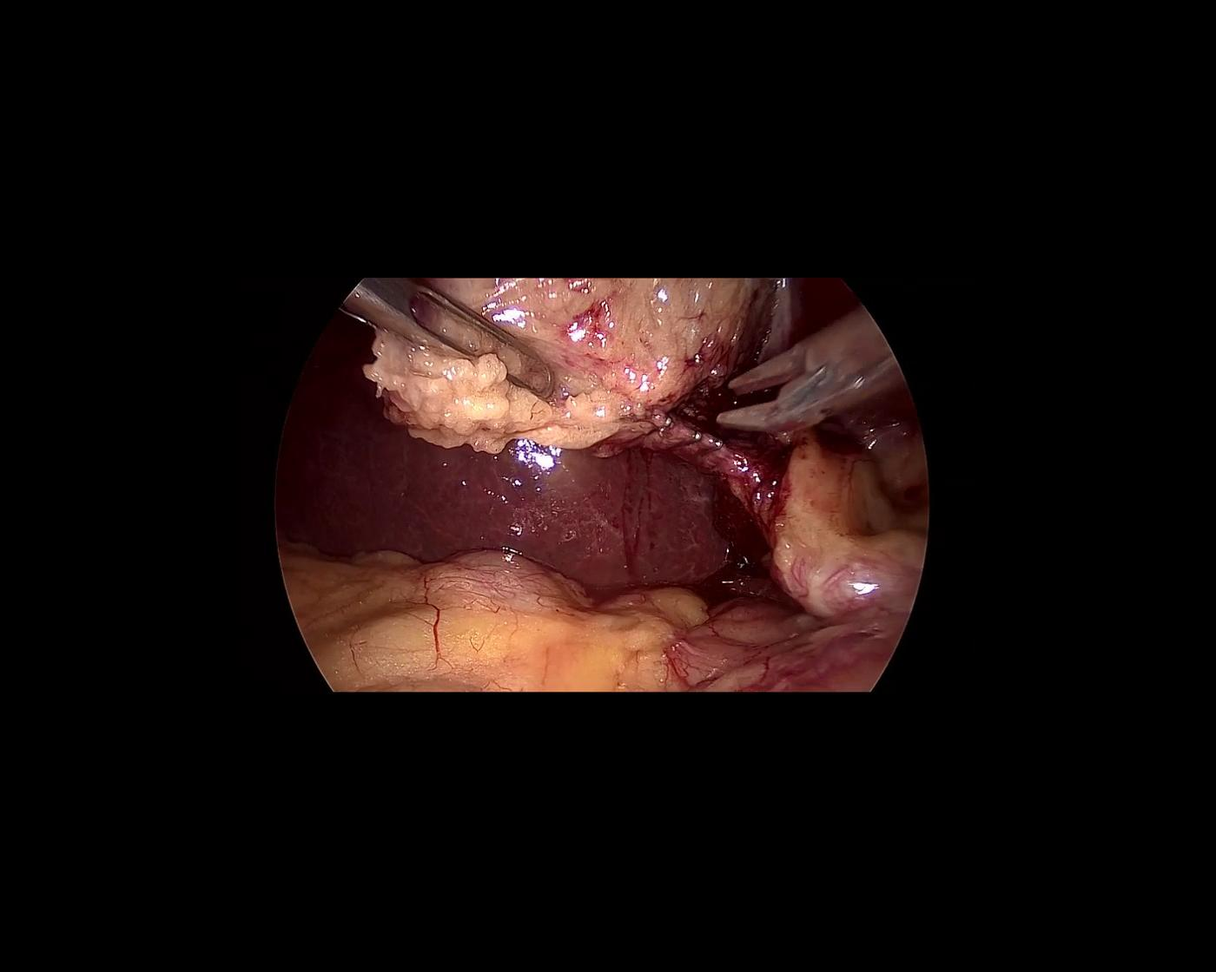Forceps: (341, 252, 575, 426)
Gallbladder: (365, 280, 775, 458)
Liver: (240, 307, 751, 709)
